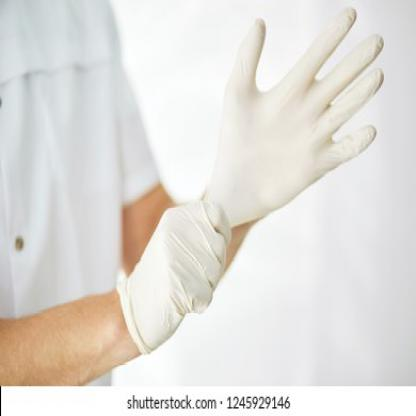with_gloves: (202, 7, 385, 230), (116, 198, 231, 358)
